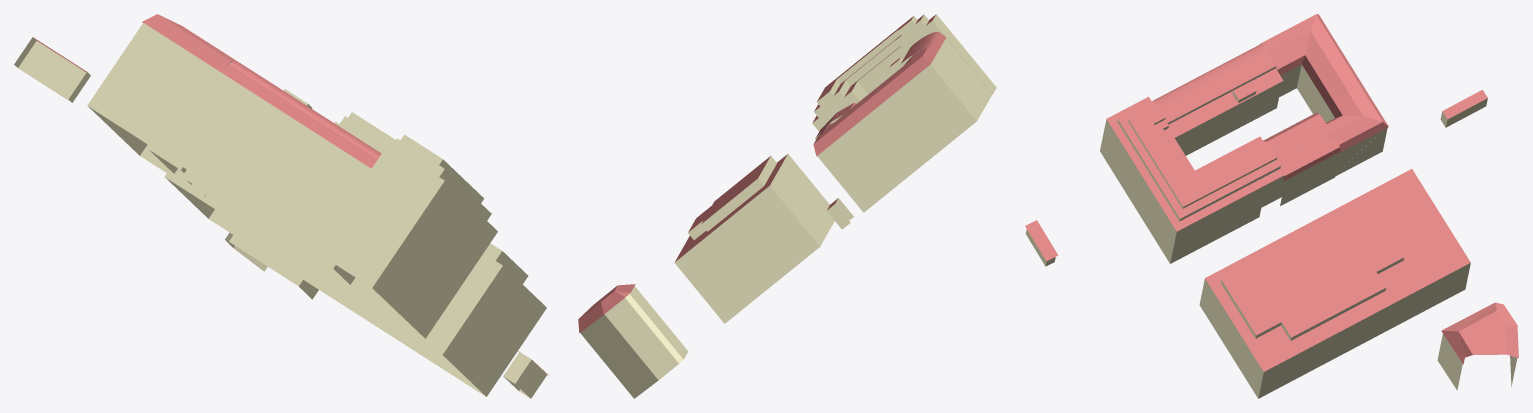
File: tile_024.glb
3 views of the same model, side by side, from view 1: azimuth 30°, elevation 25°; view 2: azimuth 150°, elevation 25°; view 3: azimuth 270°, elevation 25° (orthographic). The views are drawn at different scales.
Parts seen in each view (by area): view 1: Batched_Building_ID_E38FCA21-462B-4358-A4EE-85D4FE2FDCFA; view 2: Batched_Building_ID_E38FCA21-462B-4358-A4EE-85D4FE2FDCFA; view 3: Batched_Building_ID_E38FCA21-462B-4358-A4EE-85D4FE2FDCFA.
Part boxes in pixels (x1=…): Batched_Building_ID_E38FCA21-462B-4358-A4EE-85D4FE2FDCFA: x1=14, y1=14, x2=548, y2=398; Batched_Building_ID_E38FCA21-462B-4358-A4EE-85D4FE2FDCFA: x1=578, y1=14, x2=996, y2=398; Batched_Building_ID_E38FCA21-462B-4358-A4EE-85D4FE2FDCFA: x1=1025, y1=14, x2=1518, y2=398.
Bounding box in the file's own units: 104 × 99.61 × 154.
